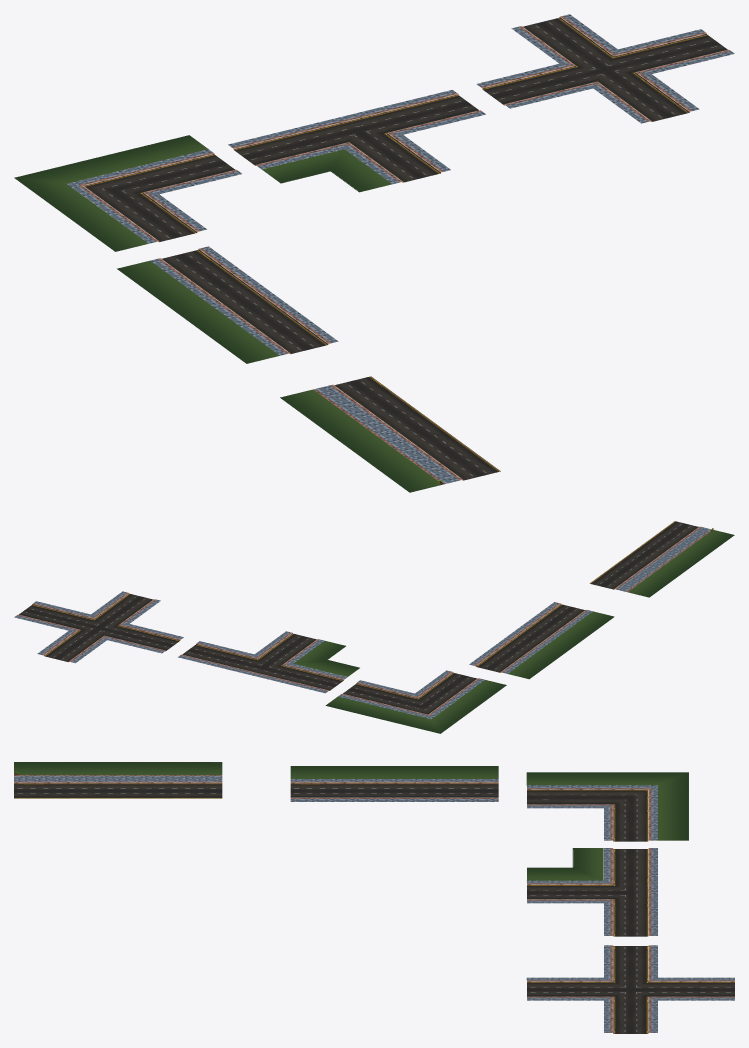
File: Roads.fbx
The picture shows the model from 3 angles, top to bottom: view 1: azimuth 30°, elevation 25°; view 2: azimuth 150°, elevation 25°; view 3: azimuth 270°, elevation 25°; orthographic projection. The views are drawn at different scales.
Parts seen in each view (by area): view 1: Road_X, Road_T, Road_L, Road_one, Road_1, Grass2, Road_side1, Road_side, Grass1; view 2: Road_X, Road_T, Road_one, Road_L, Road_1, Grass2, Road_side1, Road_side, Grass1; view 3: Road_X, Road_T, Road_1, Road_L, Road_one, Grass2, Road_side, Road_side1, Grass1.
Boxes of the visible parts, bbox=[...] form: Road_X: bbox=[476, 14, 734, 123]; Road_T: bbox=[228, 90, 485, 183]; Road_L: bbox=[67, 149, 241, 243]; Road_one: bbox=[150, 246, 338, 355]; Road_1: bbox=[313, 376, 500, 484]; Grass2: bbox=[14, 135, 208, 251]; Road_side1: bbox=[117, 260, 279, 363]; Road_side: bbox=[280, 389, 442, 492]; Grass1: bbox=[262, 149, 392, 192]; Road_X: bbox=[14, 591, 183, 663]; Road_T: bbox=[178, 631, 347, 693]; Road_one: bbox=[469, 602, 592, 673]; Road_L: bbox=[338, 670, 484, 718]; Road_1: bbox=[590, 521, 711, 592]; Grass2: bbox=[325, 680, 506, 733]; Road_side1: bbox=[508, 611, 614, 679]; Road_side: bbox=[628, 530, 734, 597]; Grass1: bbox=[293, 640, 359, 676]; Road_X: bbox=[526, 945, 734, 1033]; Road_T: bbox=[527, 848, 657, 936]; Road_1: bbox=[14, 775, 222, 798]; Road_L: bbox=[526, 785, 657, 841]; Road_one: bbox=[290, 779, 498, 801]; Grass2: bbox=[526, 772, 688, 840]; Road_side: bbox=[14, 762, 222, 775]; Road_side1: bbox=[290, 766, 498, 778]; Grass1: bbox=[527, 848, 603, 880].
Size of the model in its own units: 259 by 1.68 by 292.
